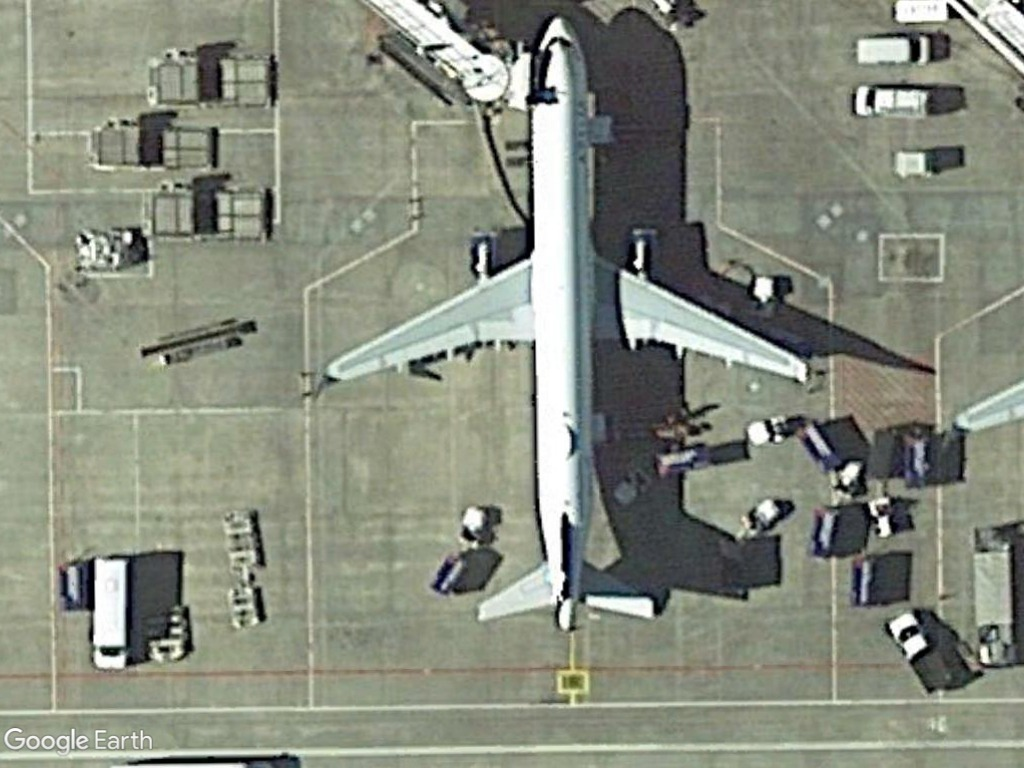airliner: (297, 15, 810, 639)
van: (84, 552, 135, 675), (848, 81, 936, 122), (848, 33, 934, 73)
